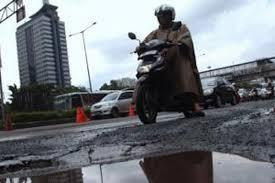Pothole: (0, 149, 275, 183)
